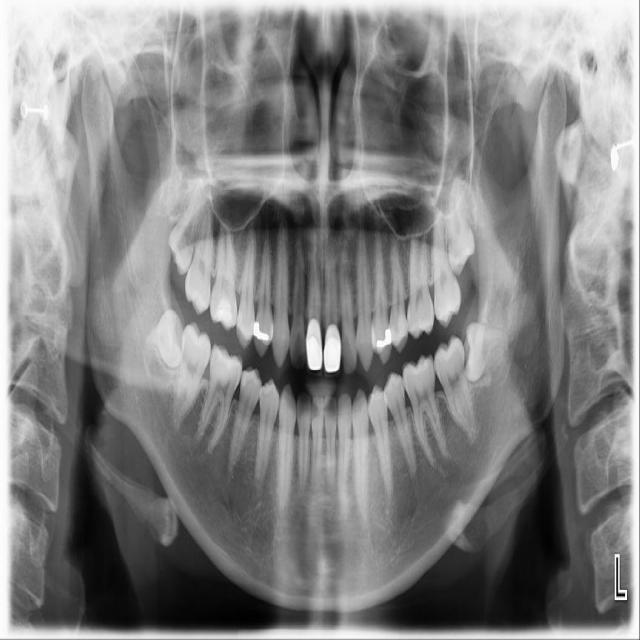Crown: (305, 318, 323, 375), (323, 323, 342, 377)
Filling: (211, 296, 233, 326), (252, 317, 272, 344), (371, 328, 393, 350)
impacted tooth: (168, 189, 206, 273), (146, 312, 184, 383), (446, 182, 475, 272), (468, 325, 511, 382)
